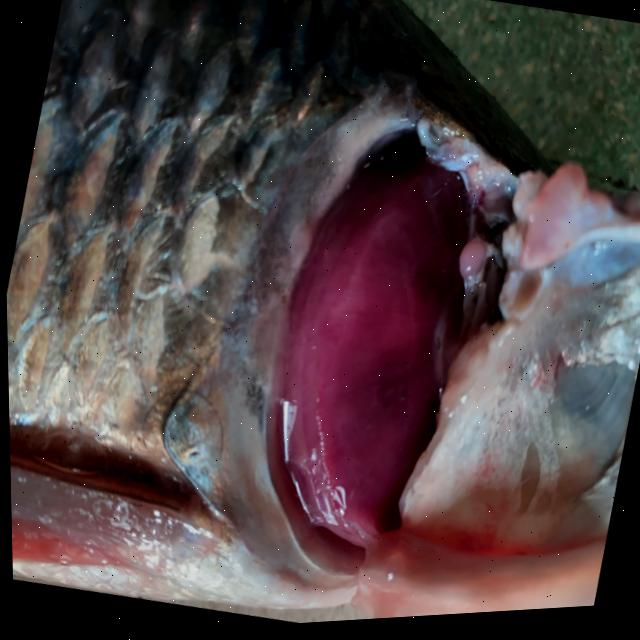Fresh: (168, 30, 576, 632)
